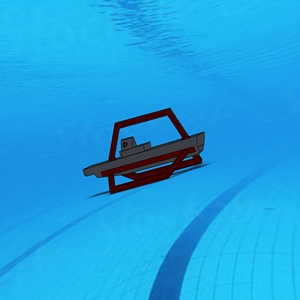submarine: (88, 104, 206, 186)
